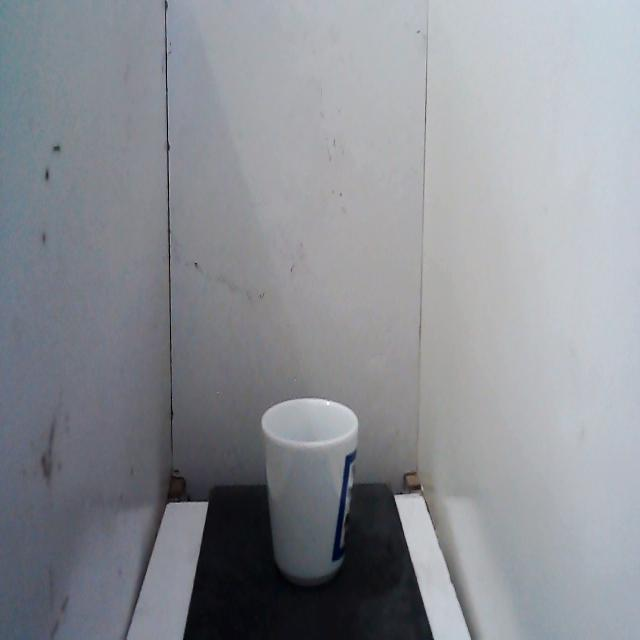vidro: (256, 390, 366, 596)
